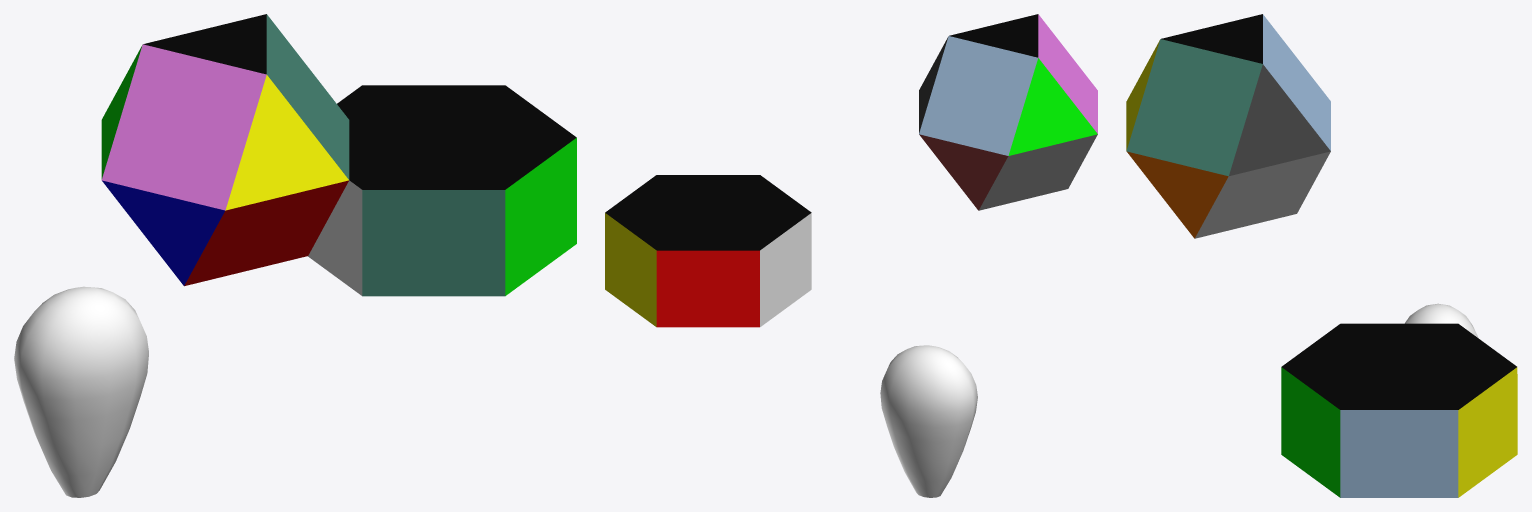
Rendered from organic chemistry kit.dae.
3 renders of one model, left to right at view 1: azimuth 30°, elevation 25°; view 2: azimuth 150°, elevation 25°; view 3: azimuth 270°, elevation 25°, orthographic. The views are drawn at different scales.
Parts seen in each view (by area): view 1: ID0inst; view 2: ID0inst; view 3: ID0inst.
Part boxes in pixels (left/top/right/bottom): ID0inst: left=14, top=14, right=576, bottom=497; ID0inst: left=605, top=14, right=1097, bottom=497; ID0inst: left=1126, top=14, right=1517, bottom=497.
Bounding box in the file's own units: 4.38 × 4.13 × 3.31.
